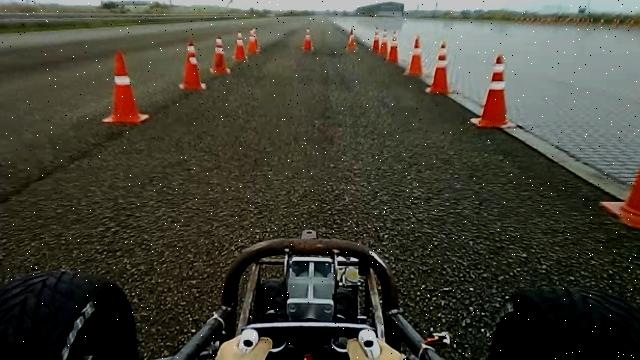red cone: (102, 50, 150, 125), (470, 53, 517, 129), (178, 37, 206, 91), (425, 40, 452, 95), (404, 34, 424, 78)
